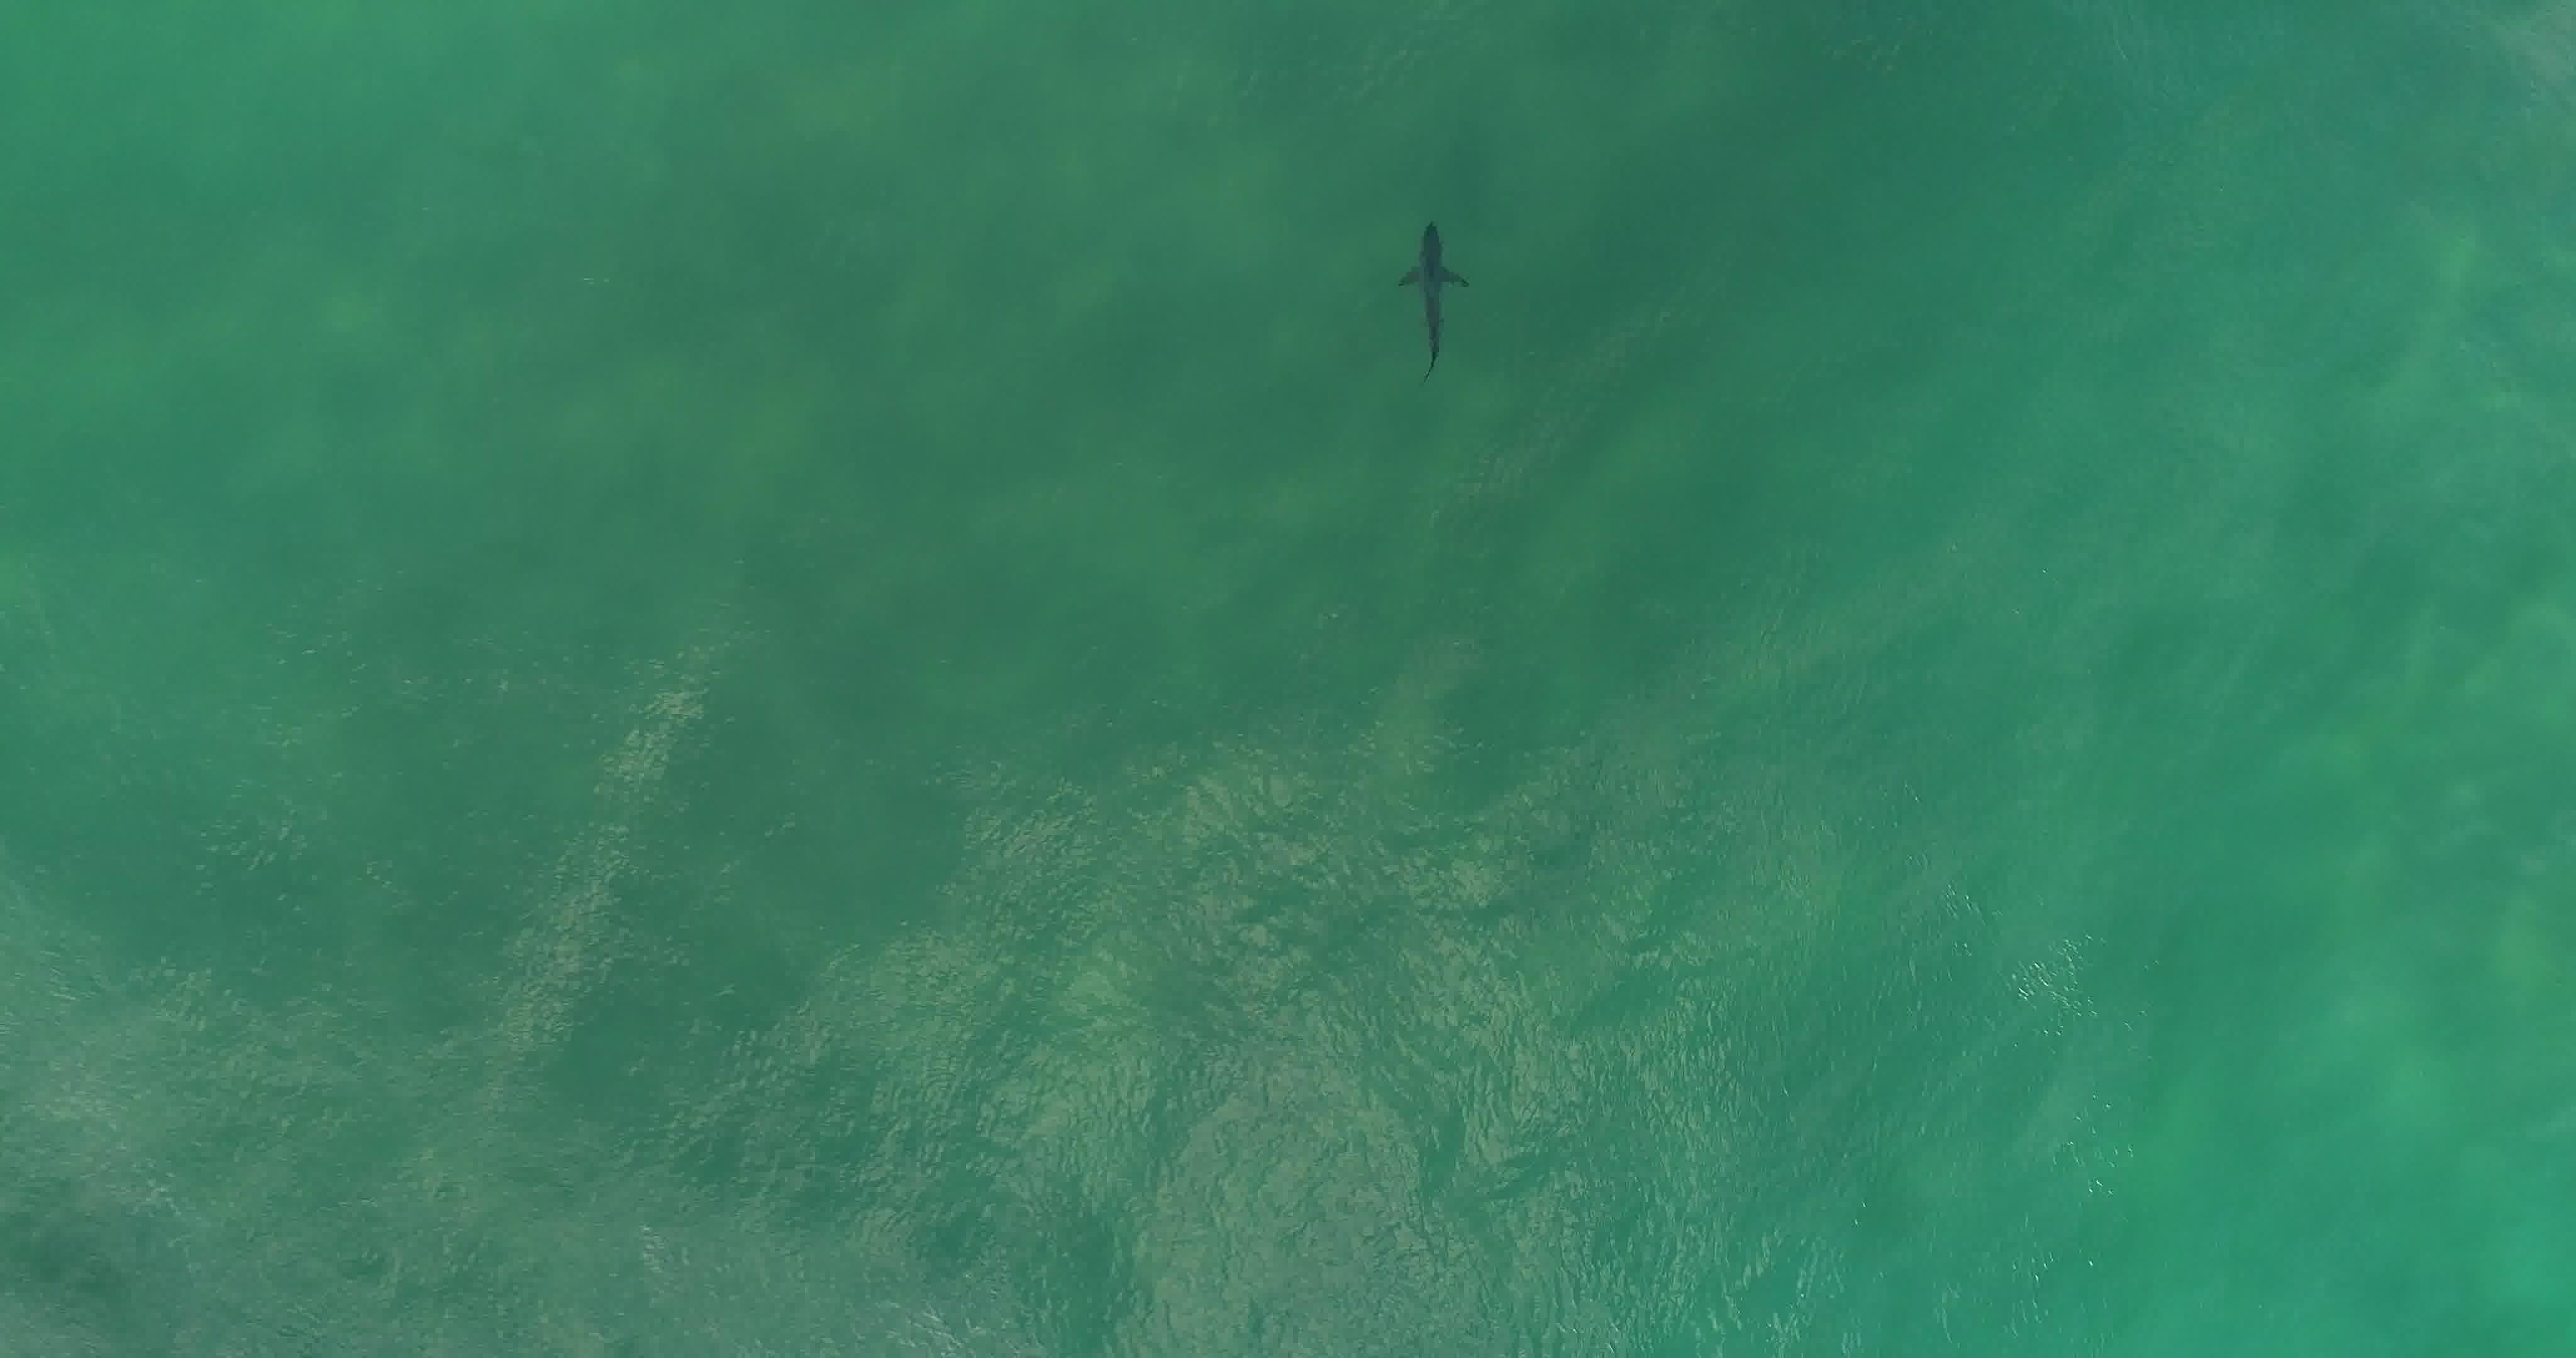shark: (1394, 222, 1475, 387)
